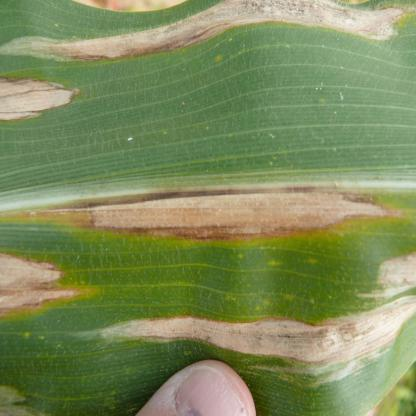corn leaf blight: (2, 6, 416, 359)
